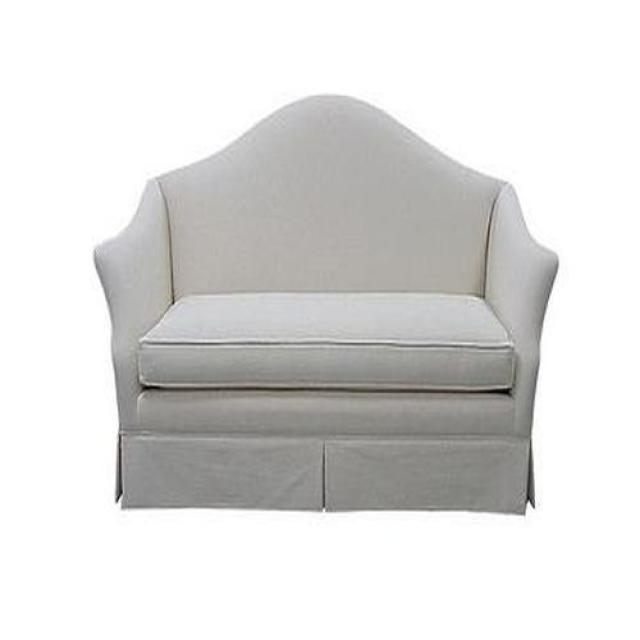sofa: (92, 95, 559, 518)
